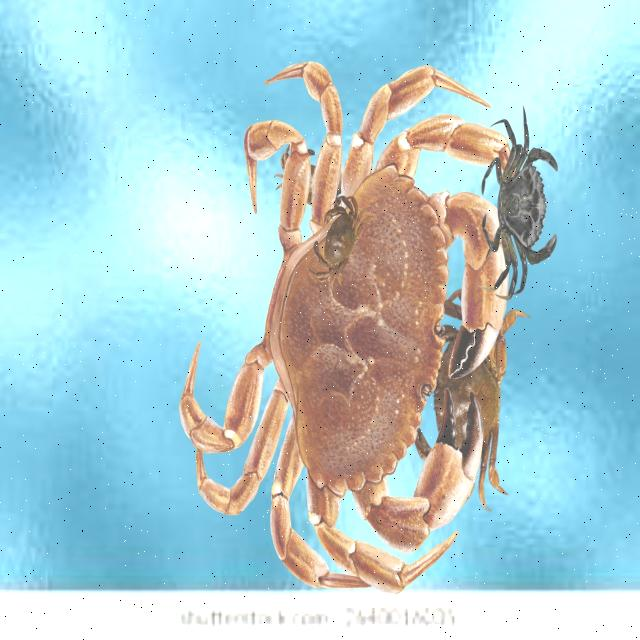European_Green_Crab: (482, 104, 557, 300)
